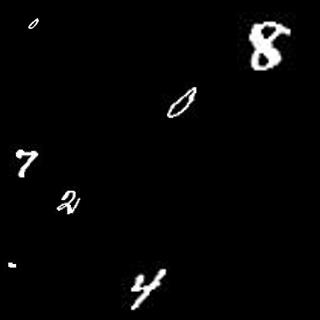dot: (7, 258, 19, 268)
eight: (243, 18, 287, 77)
four: (123, 266, 168, 309)
seven: (14, 148, 47, 181)
two: (57, 188, 82, 215)
zero: (163, 85, 200, 122), (26, 15, 45, 31)
